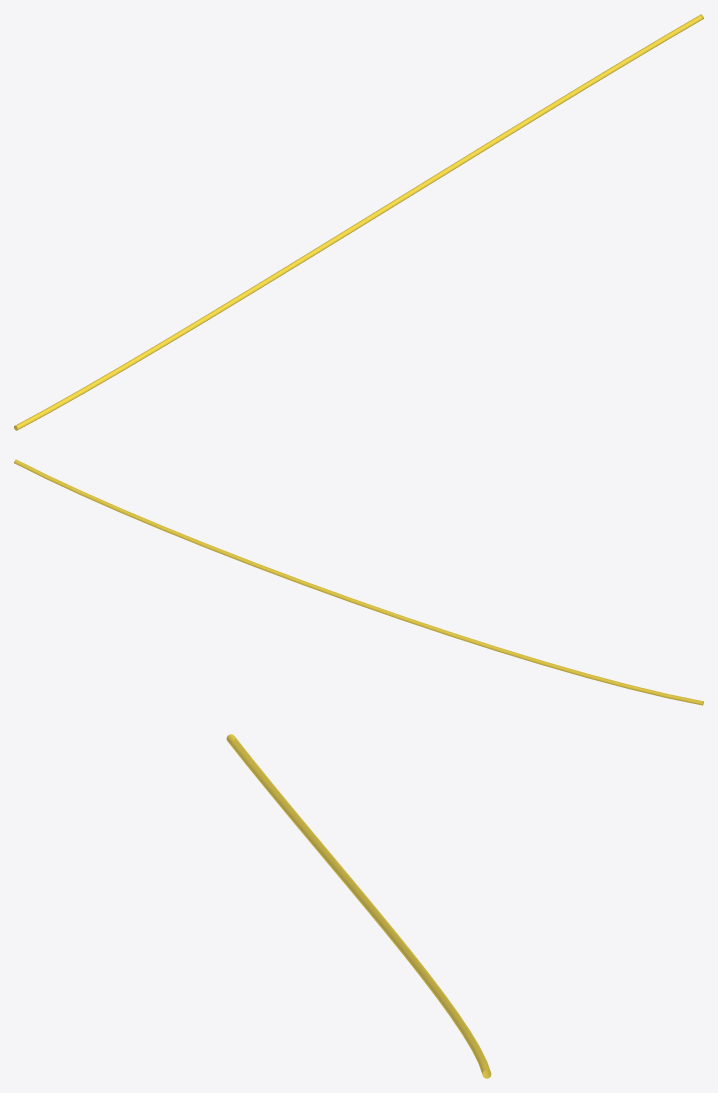
The model's file is Event_15818458_track_20.fbx.
The picture shows the model from 3 angles, top to bottom: view 1: azimuth 30°, elevation 25°; view 2: azimuth 150°, elevation 25°; view 3: azimuth 270°, elevation 25°; orthographic projection. The views are drawn at different scales.
Parts seen in each view (by area): view 1: Model; view 2: Model; view 3: Model.
Boxes of the visible parts, x1=… form: Model: x1=14, y1=14, x2=703, y2=430; Model: x1=14, y1=459, x2=703, y2=705; Model: x1=226, y1=734, x2=491, y2=1078.
Bounding box in the file's own units: 6.46 × 1.39 × 1.19.
